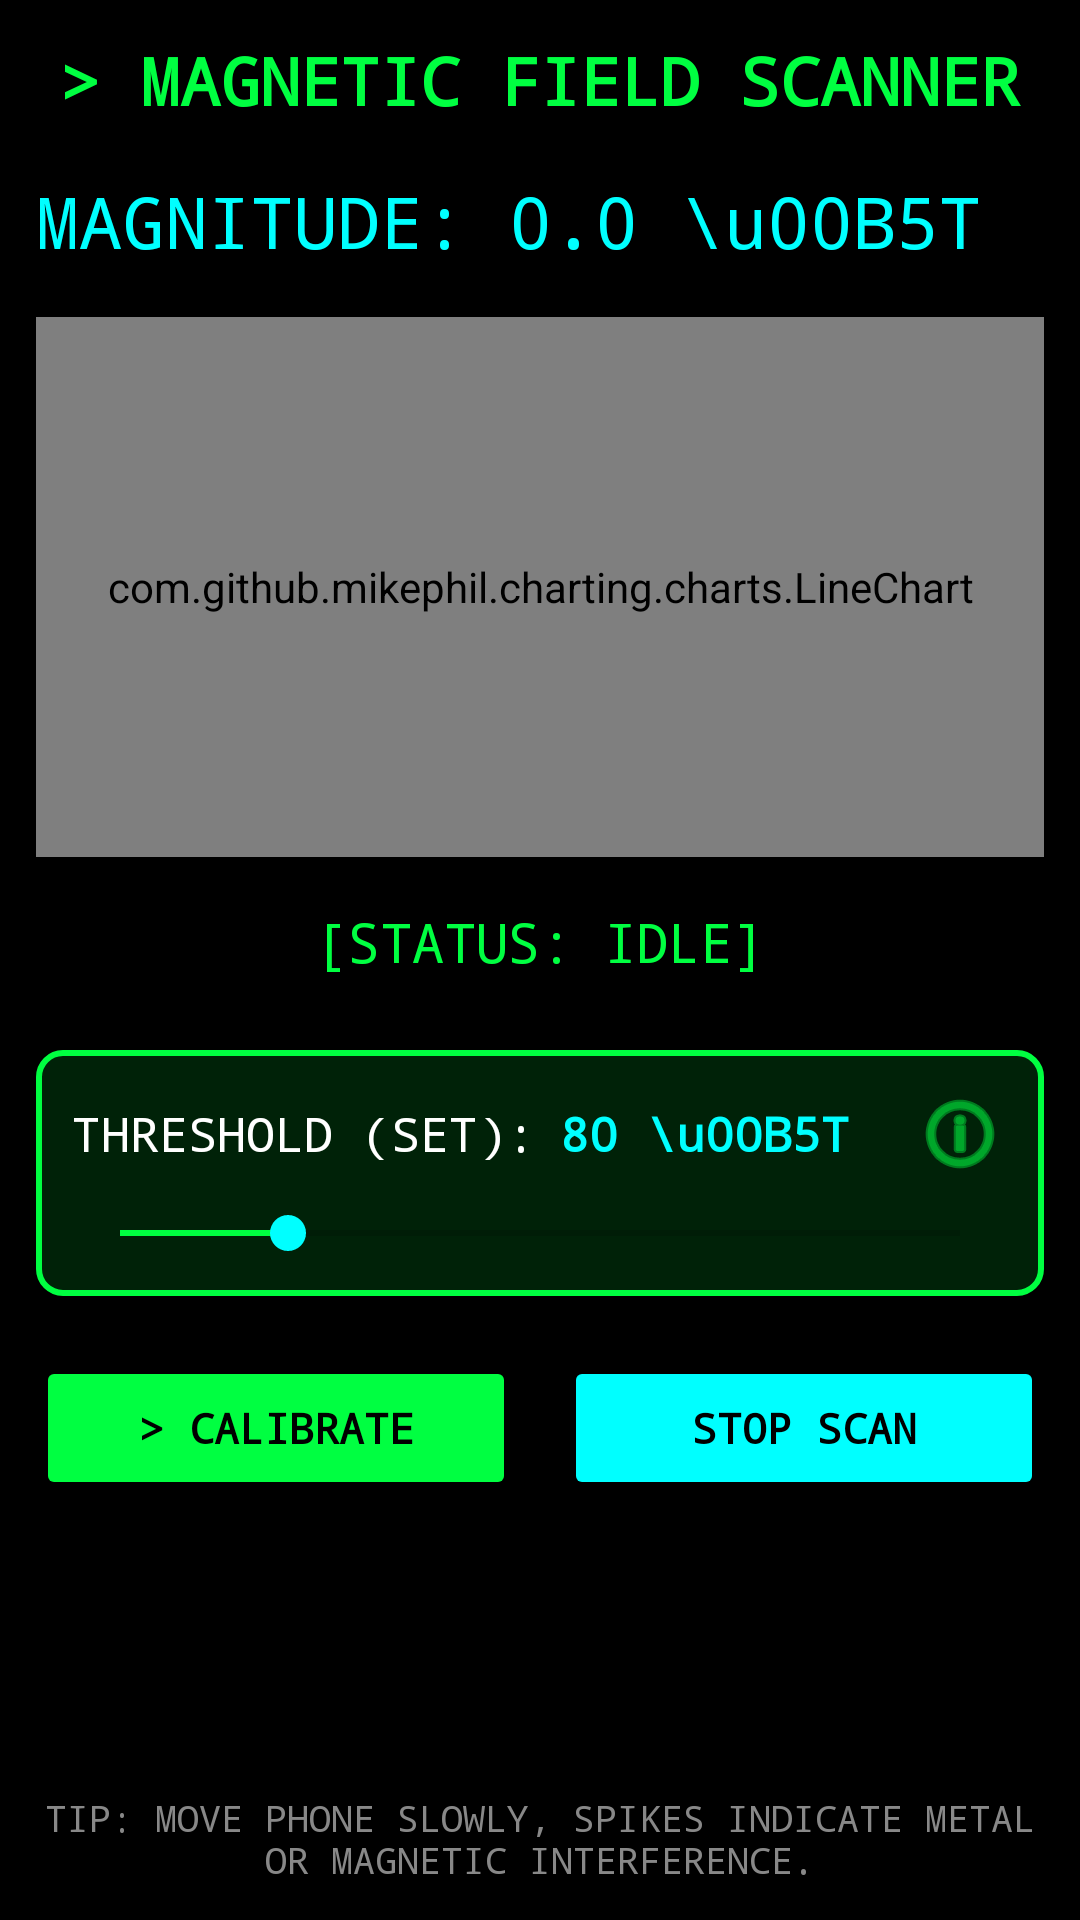

Where to tap for icons on this 1080*1920 app screen, as (x,y):
Threshold Information: (960,1134)
